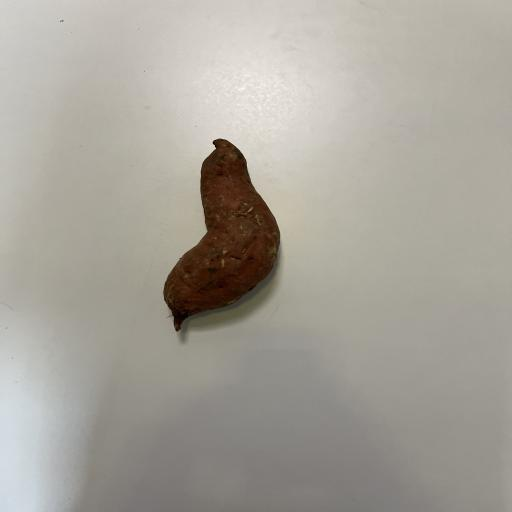sweet_potato: (146, 130, 316, 336)
